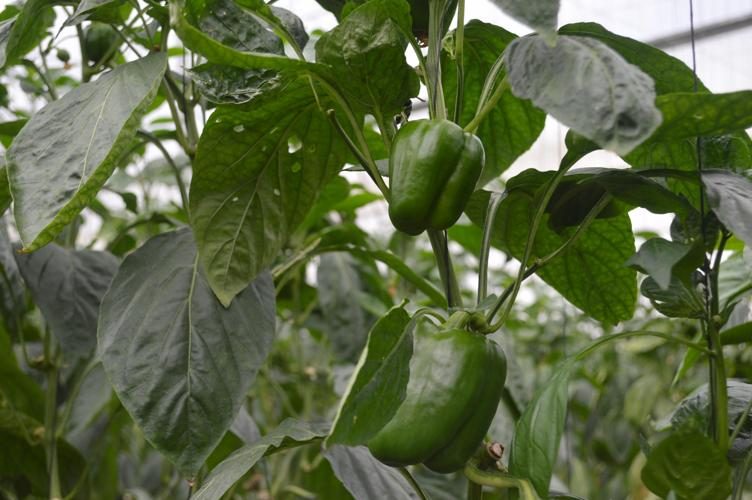BellPepper: (359, 317, 509, 488), (382, 117, 497, 248)
